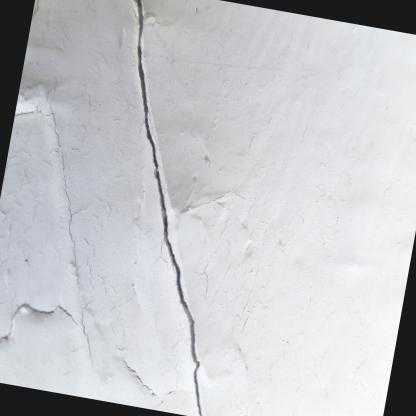crack: (134, 0, 201, 416)
